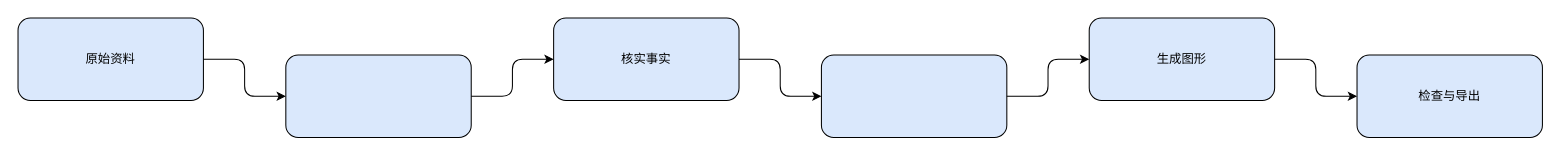
Some shapes in this 1560 by 156 pixel diagram are drawn without their labels. Here are the shapes that lost their labels. From the top down, the box of each, then its label:
(285, 54, 471, 138): 提取关系
(820, 54, 1007, 138): 整理图规格
